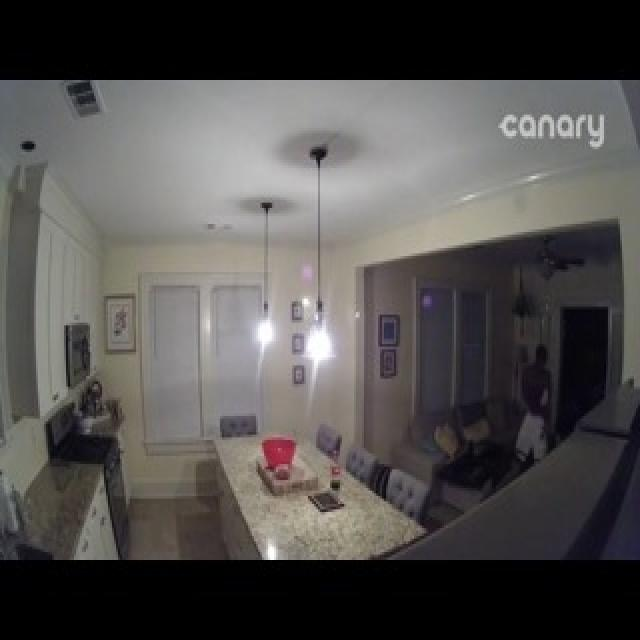thief: (484, 327, 562, 452)
